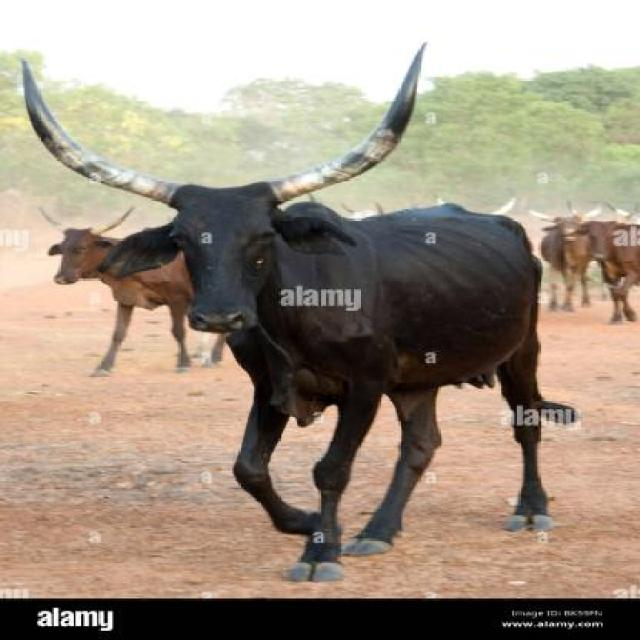Cow: (19, 52, 588, 590), (31, 205, 244, 369), (537, 208, 603, 315), (583, 212, 639, 331)
